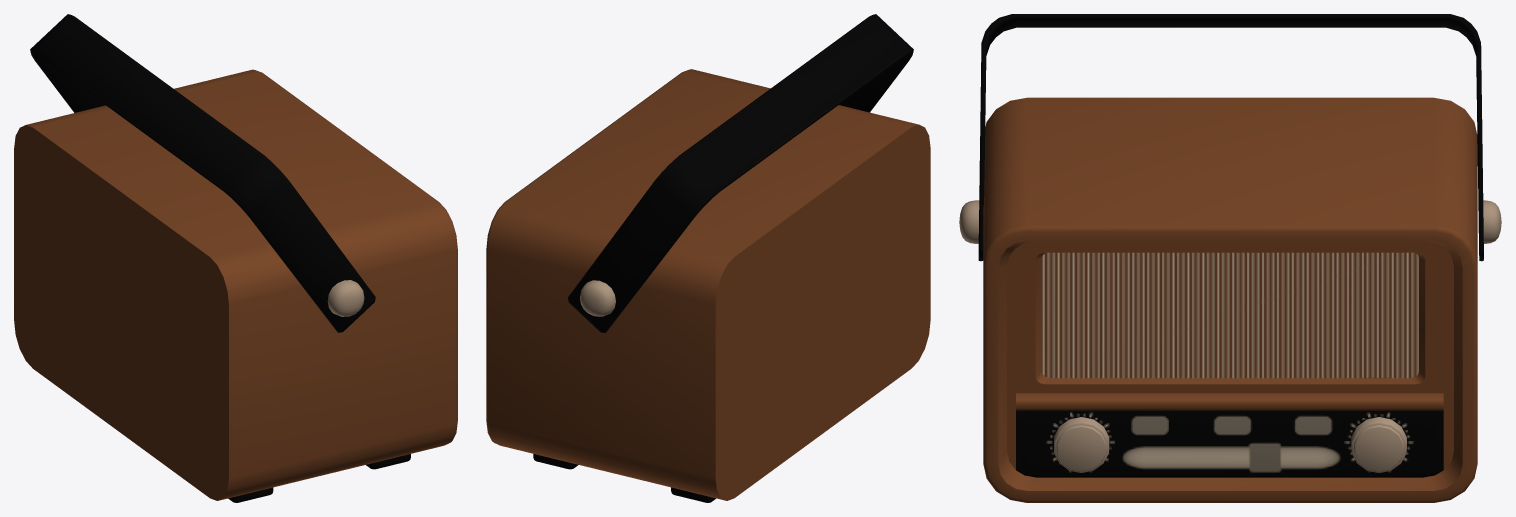
File: RadioGLB.glb
3 views of the same model, side by side, from view 1: azimuth 30°, elevation 25°; view 2: azimuth 150°, elevation 25°; view 3: azimuth 270°, elevation 25° (orthographic). The views are drawn at different scales.
Visible parts, largest first — view 1: Cube.013; view 2: Cube.013; view 3: Cube.013.
Boxes of the visible parts, x1,y1,x2,y2 form: Cube.013: [14, 14, 457, 502]; Cube.013: [486, 14, 930, 502]; Cube.013: [959, 14, 1501, 502].
Size of the model in its own units: 0.1458 by 0.2049 by 0.2504.
Materials: 1 (1 with a texture image).
